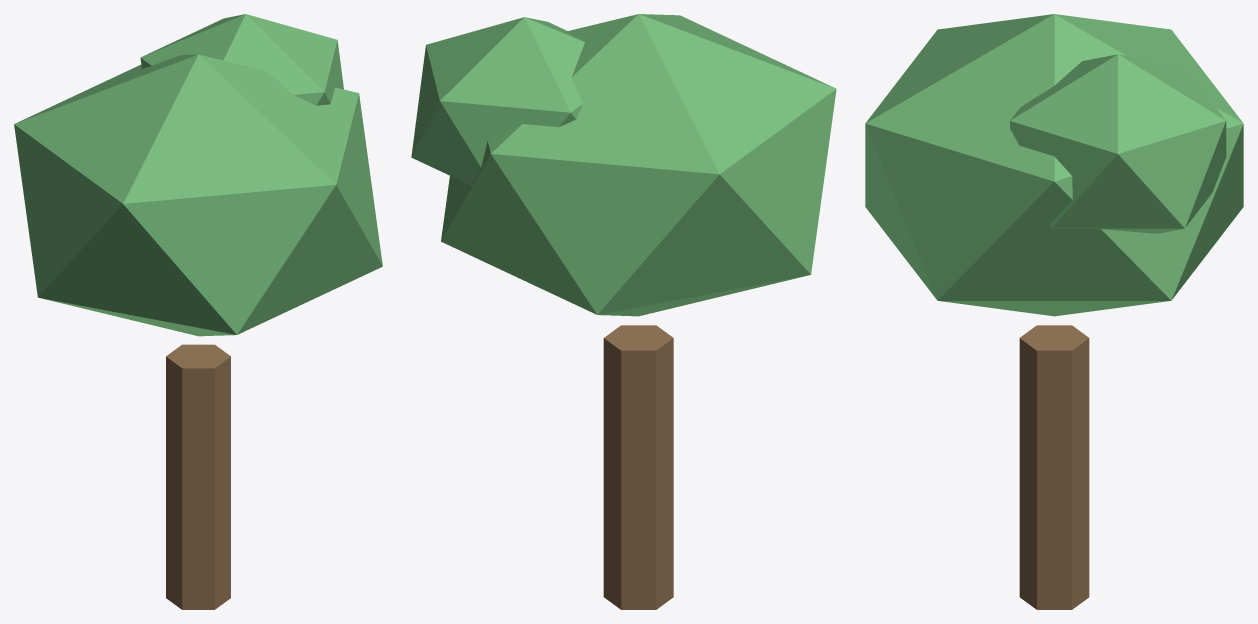
The model's file is tree_b.glb.
3 views of the same model, side by side, from view 1: azimuth 30°, elevation 25°; view 2: azimuth 150°, elevation 25°; view 3: azimuth 270°, elevation 25° (orthographic). The views are drawn at different scales.
Visible parts, largest first — view 1: Crown, Trunk, Crown2; view 2: Crown, Trunk, Crown2; view 3: Crown, Crown2, Trunk.
Part boxes in pixels (x1,y1,x2,y2): Crown: (14, 54, 382, 336); Trunk: (166, 344, 230, 609); Crown2: (140, 14, 343, 105); Crown: (441, 14, 836, 316); Trunk: (603, 325, 673, 609); Crown2: (411, 17, 584, 185); Crown: (865, 14, 1243, 316); Crown2: (1010, 54, 1226, 233); Trunk: (1019, 325, 1089, 609).
Bounding box in the file's own units: 2.57 × 4.05 × 2.38.
